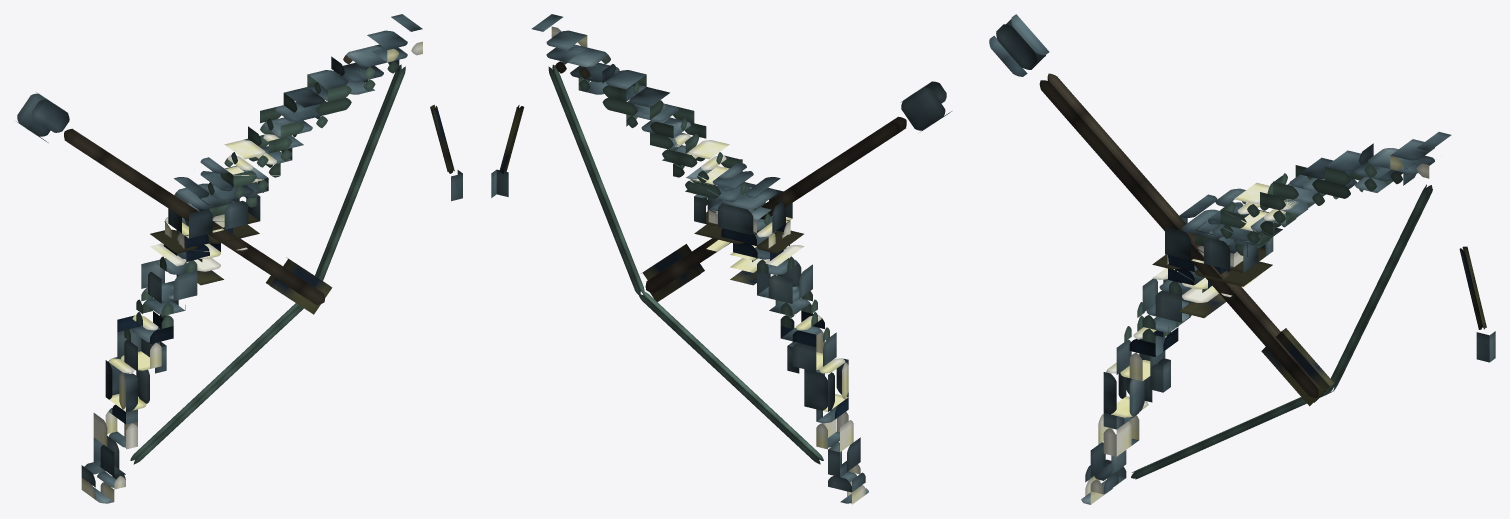
Rendered from deepline_bow_pulling_1.obj.
The picture shows the model from 3 angles, left to right: view 1: azimuth 30°, elevation 25°; view 2: azimuth 150°, elevation 25°; view 3: azimuth 330°, elevation 25°; orthographic projection. The views are drawn at different scales.
Parts seen in each view (by area): view 1: lit, fire; view 2: lit, fire; view 3: lit, fire.
Part boxes in pixels (box(x1,y1,x2,y2)): lit: box(16, 14, 462, 503); fire: box(266, 257, 332, 314); lit: box(491, 14, 951, 504); fire: box(641, 244, 704, 301); lit: box(989, 14, 1495, 504); fire: box(1261, 328, 1334, 406).
Size of the model in its own units: 1.19 by 1.07 by 0.125.
